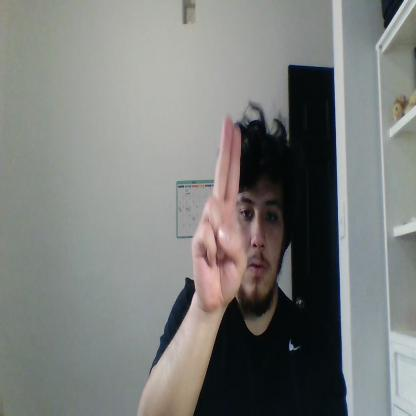U: (191, 113, 247, 311)
